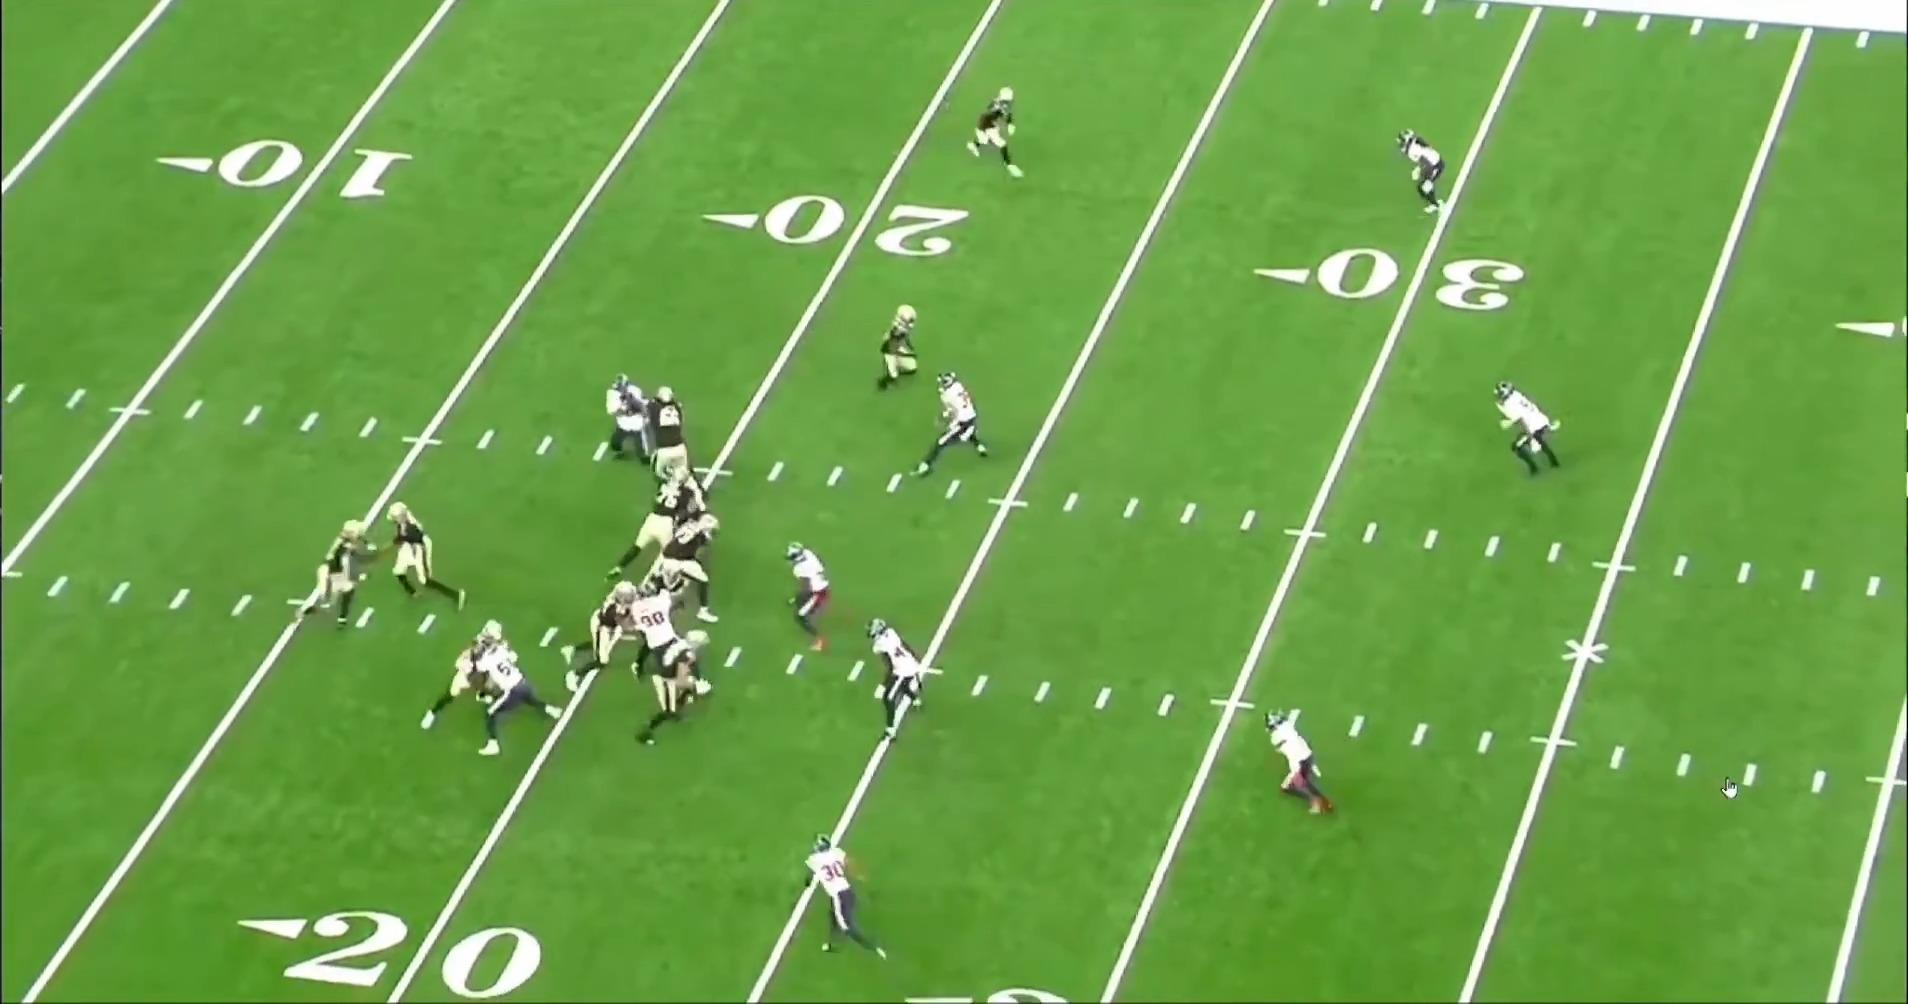defense: (804, 831, 896, 966), (464, 643, 562, 763), (915, 367, 989, 481), (867, 616, 930, 747), (1261, 708, 1333, 822), (1497, 382, 1570, 492), (789, 542, 844, 658), (623, 589, 686, 689), (608, 370, 664, 468), (1393, 129, 1446, 221)
oline: (611, 473, 712, 588), (418, 621, 515, 738), (558, 576, 642, 695), (654, 513, 731, 631), (641, 386, 693, 489)
qb: (380, 502, 471, 617)
skill: (640, 623, 719, 748), (302, 516, 376, 631), (958, 81, 1025, 183), (864, 299, 925, 397)
